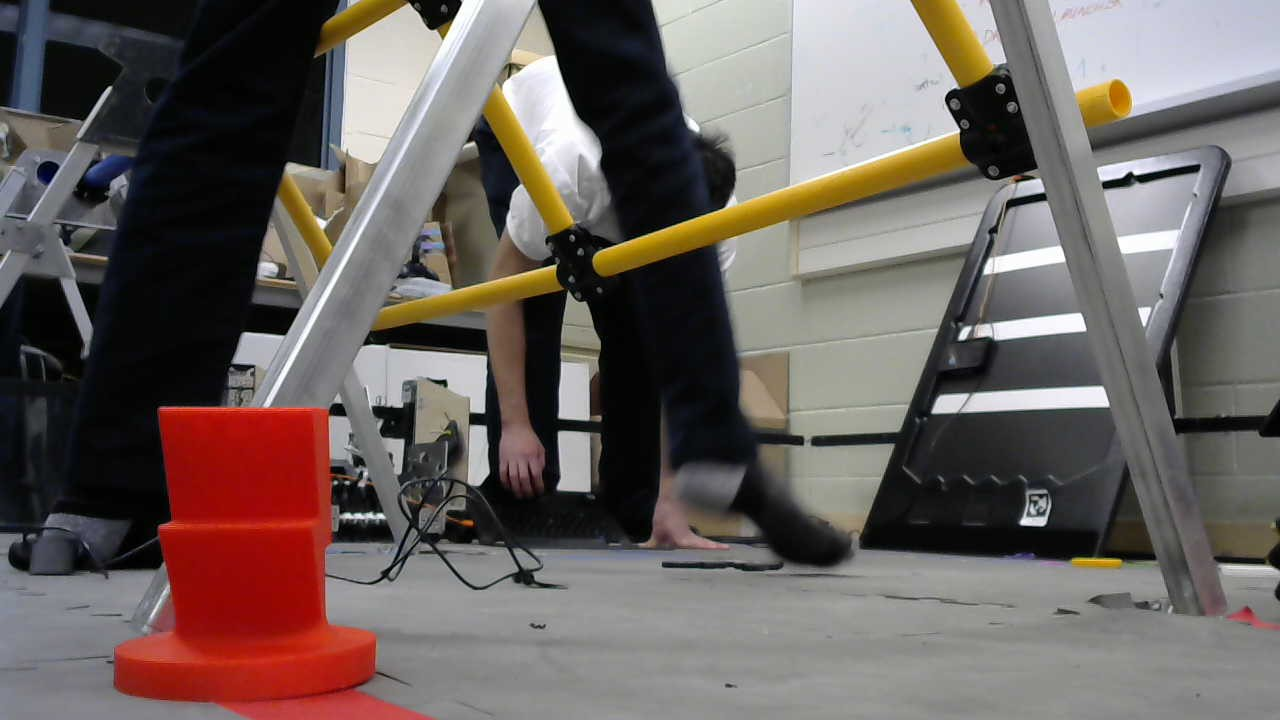redobject: (107, 395, 385, 700)
